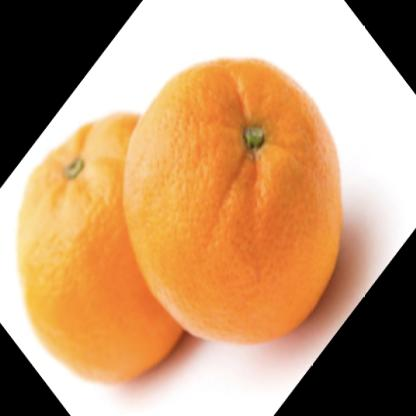fresh: (20, 59, 346, 383)
